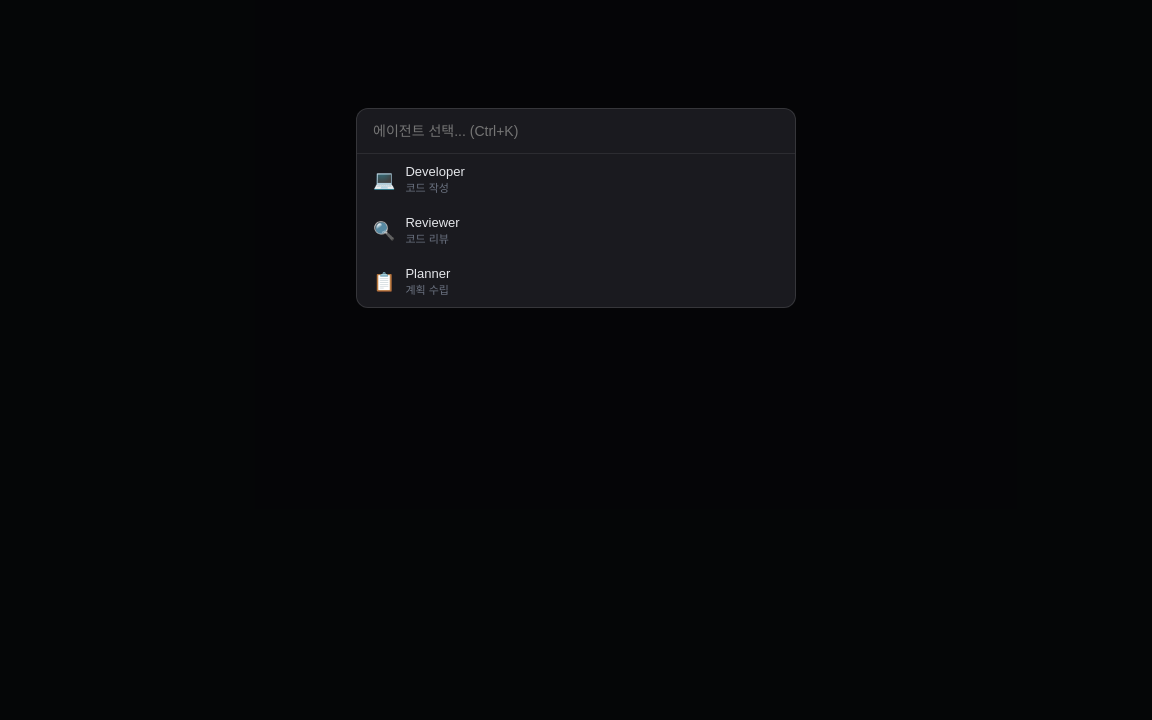
Test: CommandPalette › filters agents by name
Step 1. Type "dev" into the field with placeholder "에이전트 선택... (Ctrl+K)" → (576, 132), box [357,109,795,154]
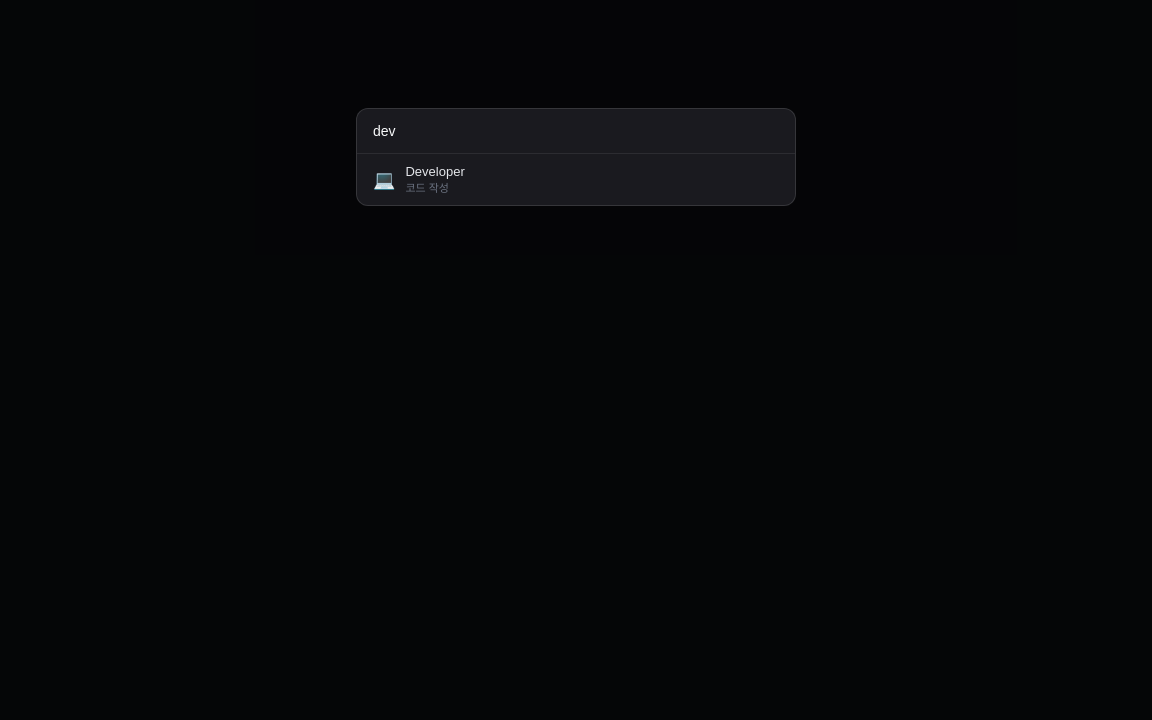
Expected: the text "Developer" is shown, [406,164,465,179]
Now the button "Reviewer" is gone
Now the button "Planner" is gone
